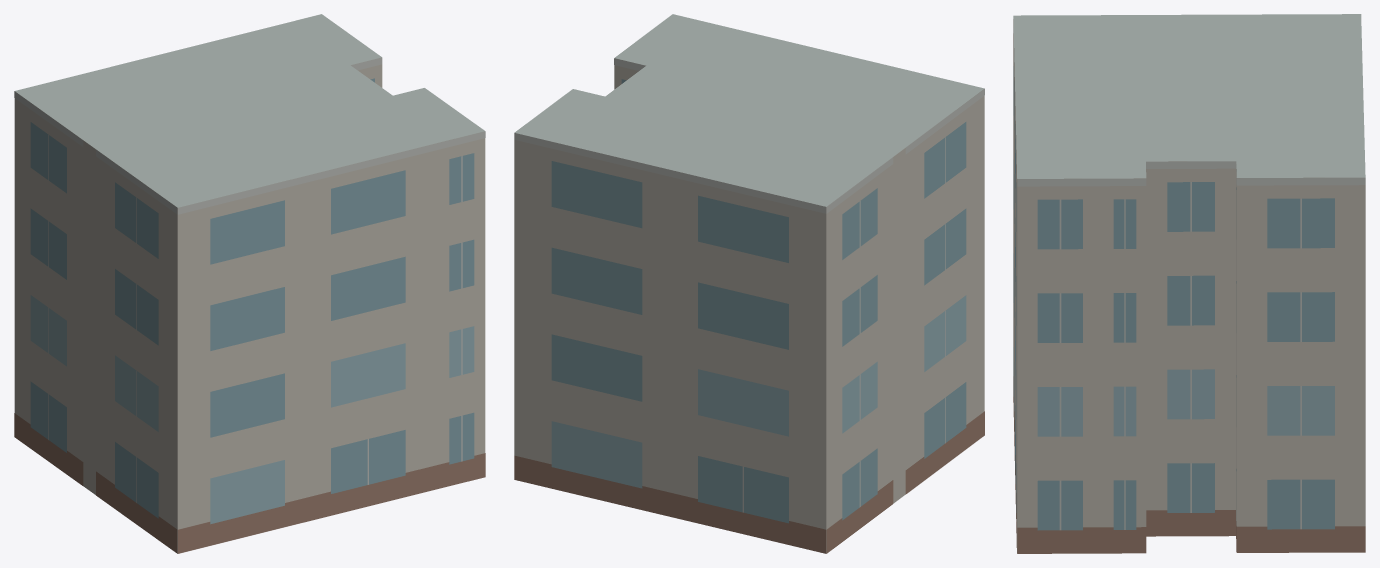
The model's file is survey-upis-32996113.glb.
3 views of the same model, side by side, from view 1: azimuth 30°, elevation 25°; view 2: azimuth 150°, elevation 25°; view 3: azimuth 270°, elevation 25° (orthographic). The views are drawn at different scales.
Visible parts, largest first — view 1: survey-upis-32996113.tmp; view 2: survey-upis-32996113.tmp; view 3: survey-upis-32996113.tmp.
Part boxes in pixels (x1,y1,x2,y2): survey-upis-32996113.tmp: [14, 14, 485, 553]; survey-upis-32996113.tmp: [514, 14, 984, 553]; survey-upis-32996113.tmp: [1013, 14, 1365, 553].
Size of the model in its own units: 11.38 by 12.05 by 10.27.
